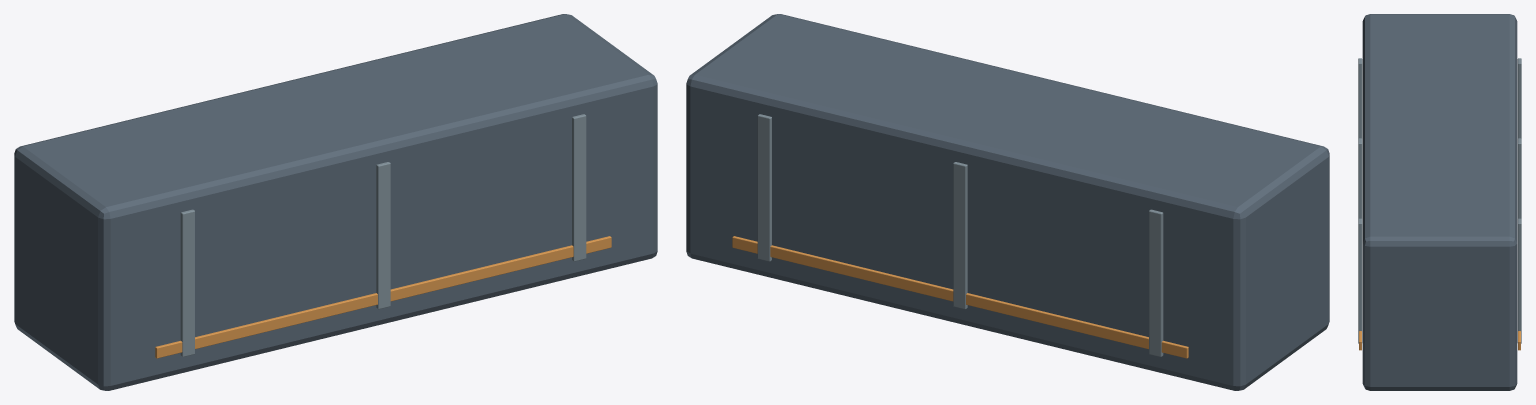
The model's file is low-cover.glb.
3 views of the same model, side by side, from view 1: azimuth 30°, elevation 25°; view 2: azimuth 150°, elevation 25°; view 3: azimuth 270°, elevation 25° (orthographic). The views are drawn at different scales.
Parts seen in each view (by area): view 1: Visual_LowCover_Shell, Visual_Merged_ZA_LowCover_Root_Neutral_Steel, Visual_Merged_ZA_LowCover_Root_Warning_Orange; view 2: Visual_LowCover_Shell, Visual_Merged_ZA_LowCover_Root_Neutral_Steel, Visual_Merged_ZA_LowCover_Root_Warning_Orange; view 3: Visual_LowCover_Shell, Visual_Merged_ZA_LowCover_Root_Neutral_Steel.
Boxes of the visible parts, x1=… form: Visual_LowCover_Shell: x1=14, y1=14, x2=657, y2=390; Visual_Merged_ZA_LowCover_Root_Neutral_Steel: x1=180, y1=114, x2=586, y2=356; Visual_Merged_ZA_LowCover_Root_Warning_Orange: x1=155, y1=236, x2=611, y2=358; Visual_LowCover_Shell: x1=686, y1=14, x2=1329, y2=390; Visual_Merged_ZA_LowCover_Root_Neutral_Steel: x1=757, y1=114, x2=1163, y2=356; Visual_Merged_ZA_LowCover_Root_Warning_Orange: x1=732, y1=236, x2=1188, y2=358; Visual_LowCover_Shell: x1=1362, y1=14, x2=1517, y2=390; Visual_Merged_ZA_LowCover_Root_Neutral_Steel: x1=1358, y1=58, x2=1521, y2=343.
Size of the model in its own units: 7 by 2.2 by 2.11.
